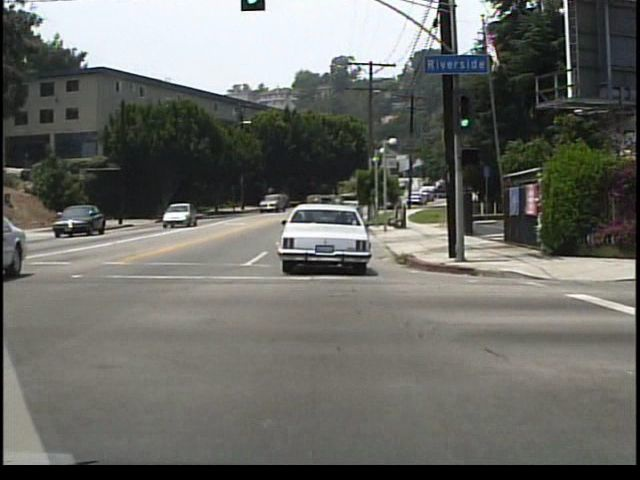person: (93, 204, 104, 230)
